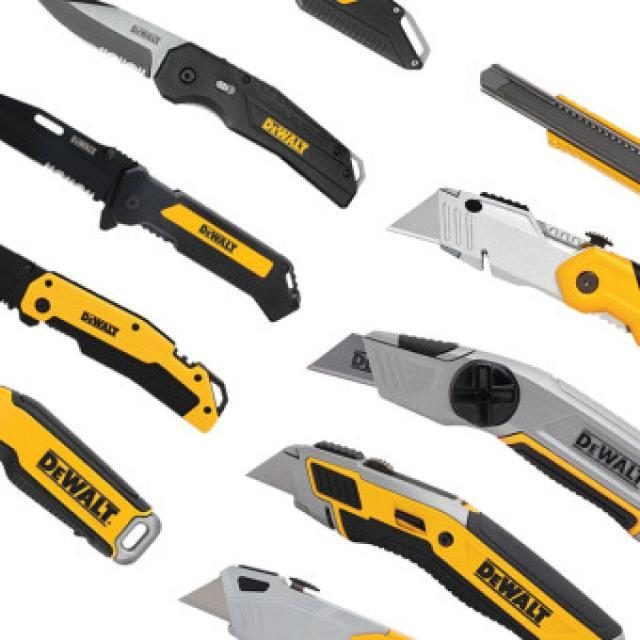estilete: (248, 441, 623, 639), (310, 332, 639, 540), (391, 188, 639, 346), (482, 64, 639, 191), (181, 565, 414, 639)
